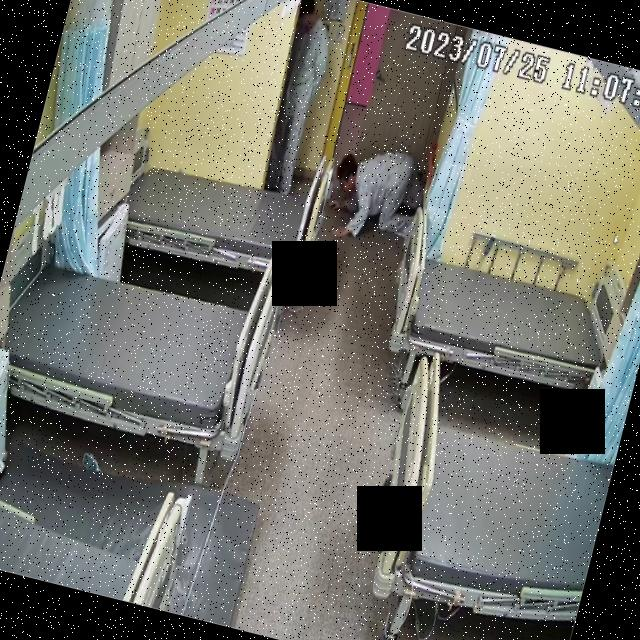bed: (356, 348, 630, 639), (0, 243, 279, 455), (377, 231, 633, 403), (118, 144, 326, 285)
fall: (323, 140, 434, 253)
patient: (252, 0, 339, 194), (322, 144, 433, 253)
